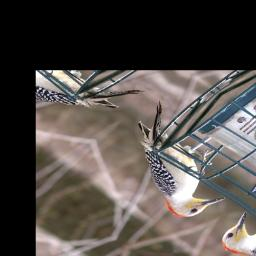Woodpecker: (85, 100, 256, 228)
